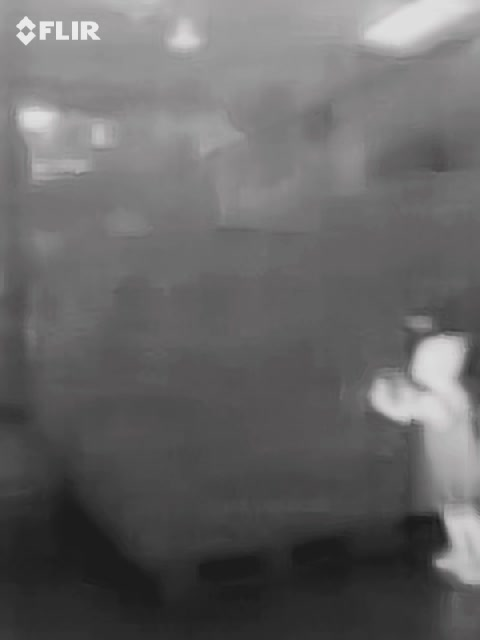head: (409, 331, 465, 388)
